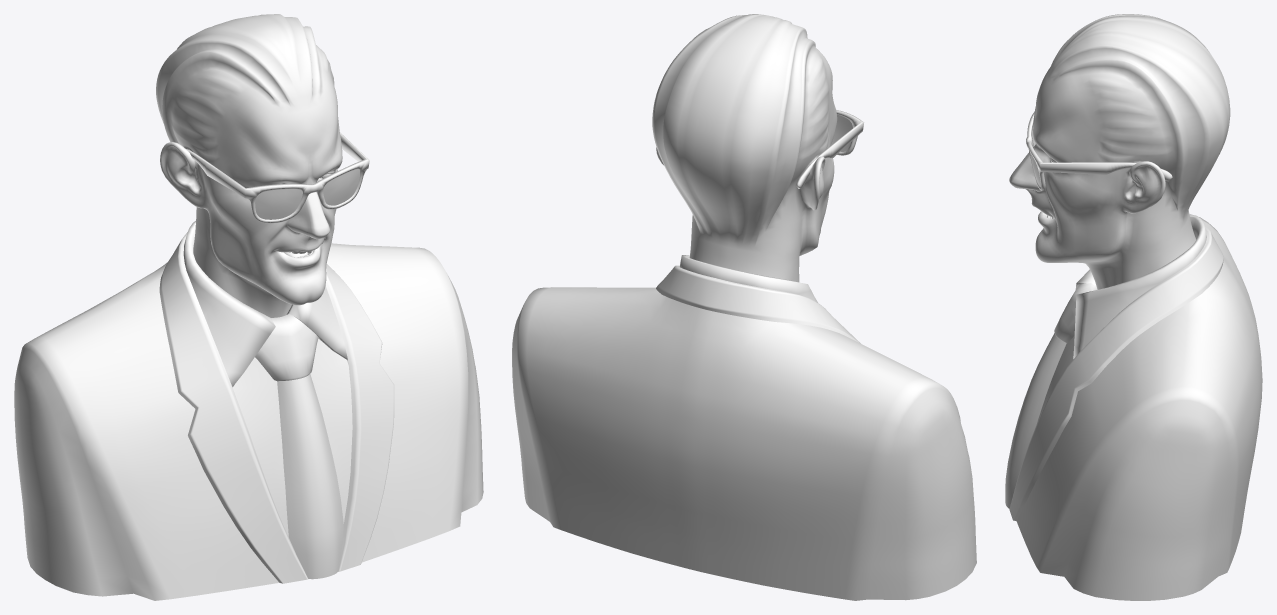
File: max.glb
The picture shows the model from 3 angles, left to right: view 1: azimuth 30°, elevation 25°; view 2: azimuth 150°, elevation 25°; view 3: azimuth 270°, elevation 25°; orthographic projection. The views are drawn at different scales.
Visible parts, largest first — view 1: max_headroom, max_headroom_shades; view 2: max_headroom, max_headroom_shades; view 3: max_headroom, max_headroom_shades.
Part boxes in pixels (x1,y1,x2,y2): max_headroom: [14, 14, 483, 600]; max_headroom_shades: [186, 132, 369, 223]; max_headroom: [512, 14, 976, 600]; max_headroom_shades: [796, 110, 864, 188]; max_headroom: [1005, 14, 1262, 600]; max_headroom_shades: [1026, 112, 1172, 190].
Bounding box in the file's own units: 0.7044 × 0.7871 × 0.384.
Materials: 1 (1 with a texture image).
